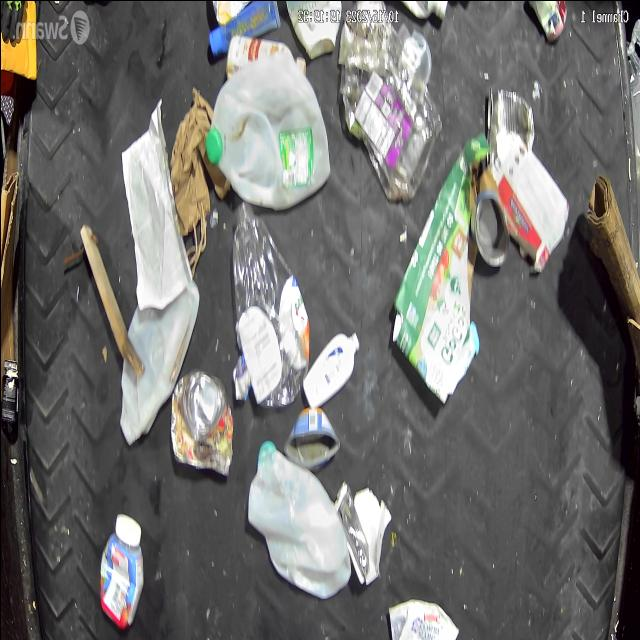can: (168, 365, 235, 479), (484, 81, 535, 158), (282, 404, 340, 471), (471, 189, 509, 269)
milk_jug: (203, 54, 329, 212), (245, 438, 351, 600), (116, 279, 202, 442)
plastic_bottle: (229, 196, 310, 407)
